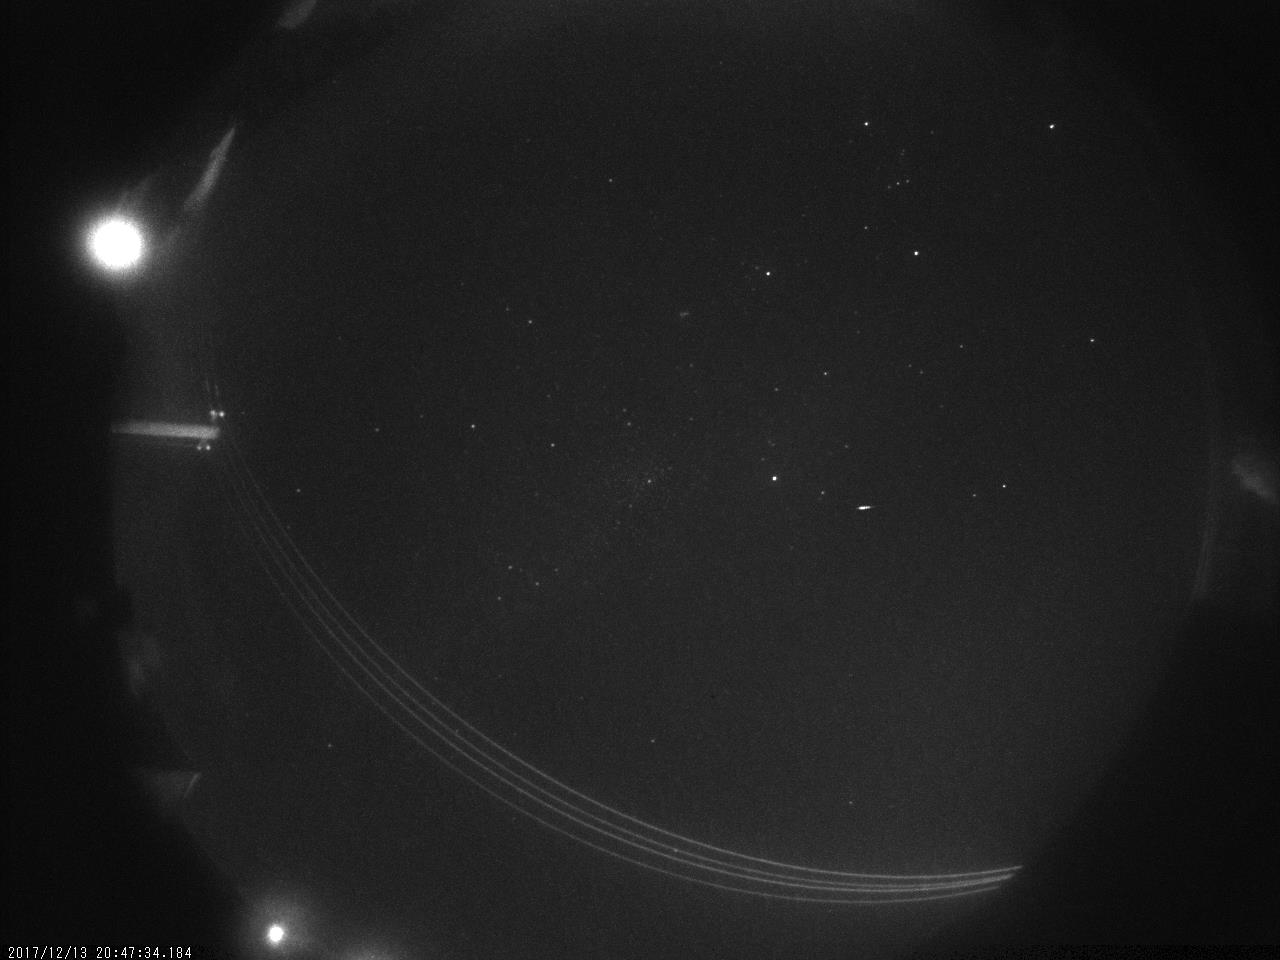meteor: (853, 499, 877, 516)
